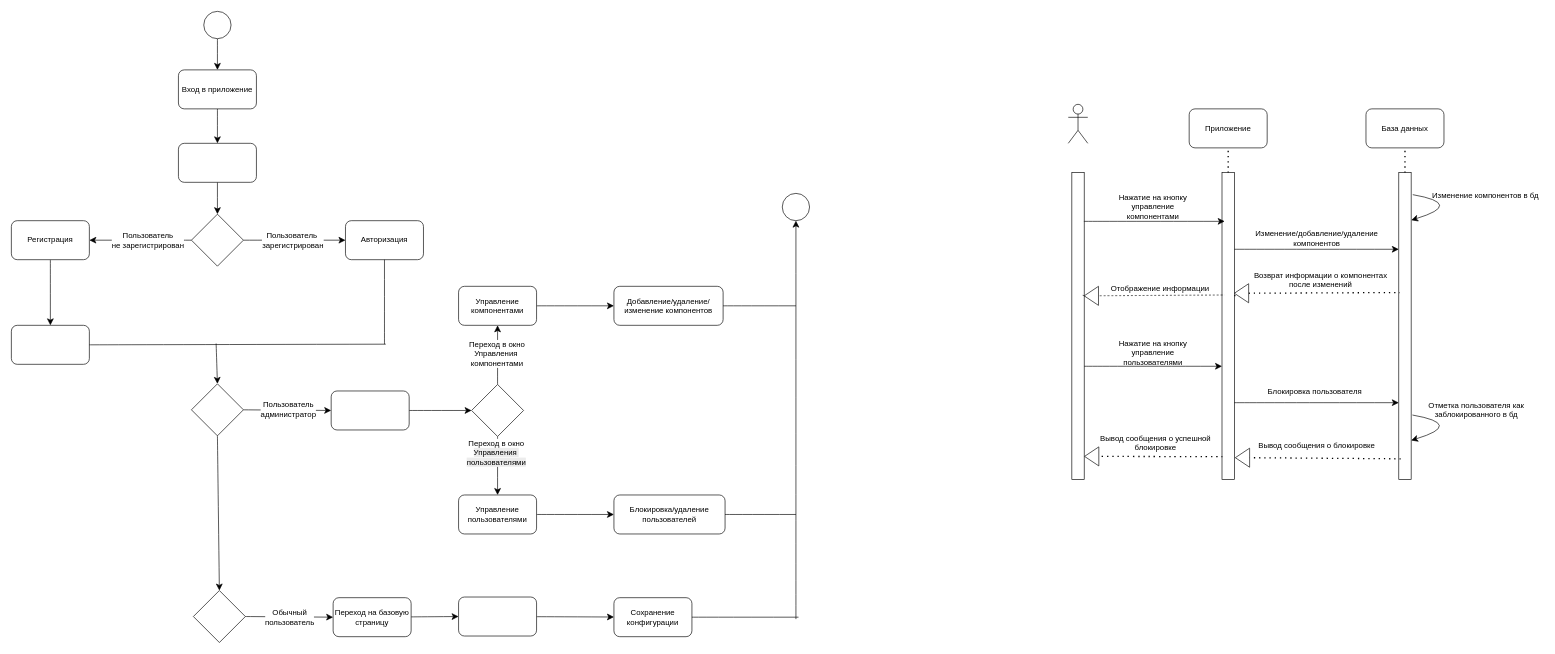
Image size: 1555x654. Some labels were removed from this diagram. Here are the shapes that lost their labels. From the top down, the box of each, then its label:
(1068, 104, 1088, 143): Администратор
(178, 143, 256, 182): Страница авторизации
(11, 325, 89, 364): Окно заполнения дополнительной информации
(331, 390, 409, 430): Переход на страницу администратора
(458, 596, 537, 636): Выбор компонентов
